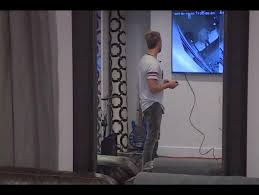Person: (134, 29, 185, 172)
